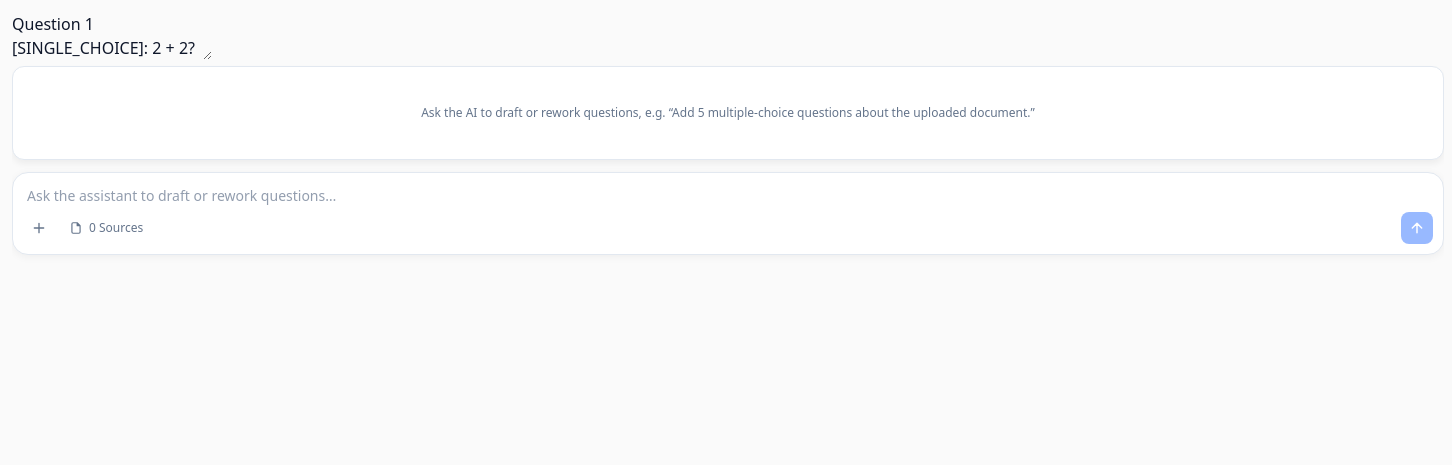
Gate review round 3 — P1-1 silent acceptance on next send › P1-1: after explicit Keep all, sending unblocks and uses the kept editor as baseline
Later steps or results of the test are not shown.
Type "add a question" into the text box named "Message the AI assistant" at (728, 190), box [13, 172, 1443, 208]
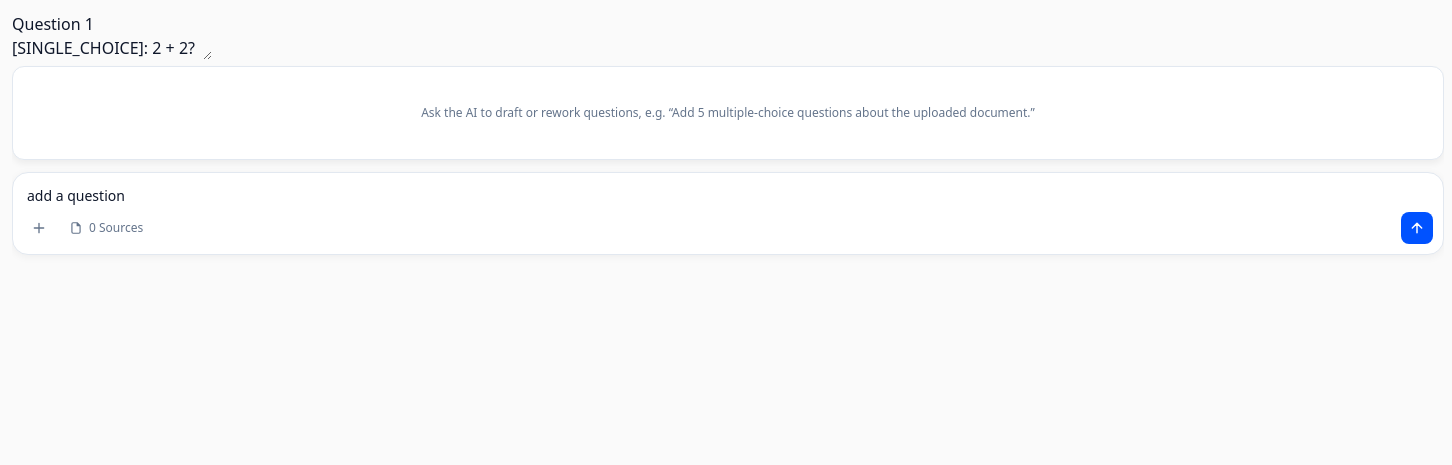
Click the button named "Send message" at (1417, 228), box [1401, 212, 1433, 244]
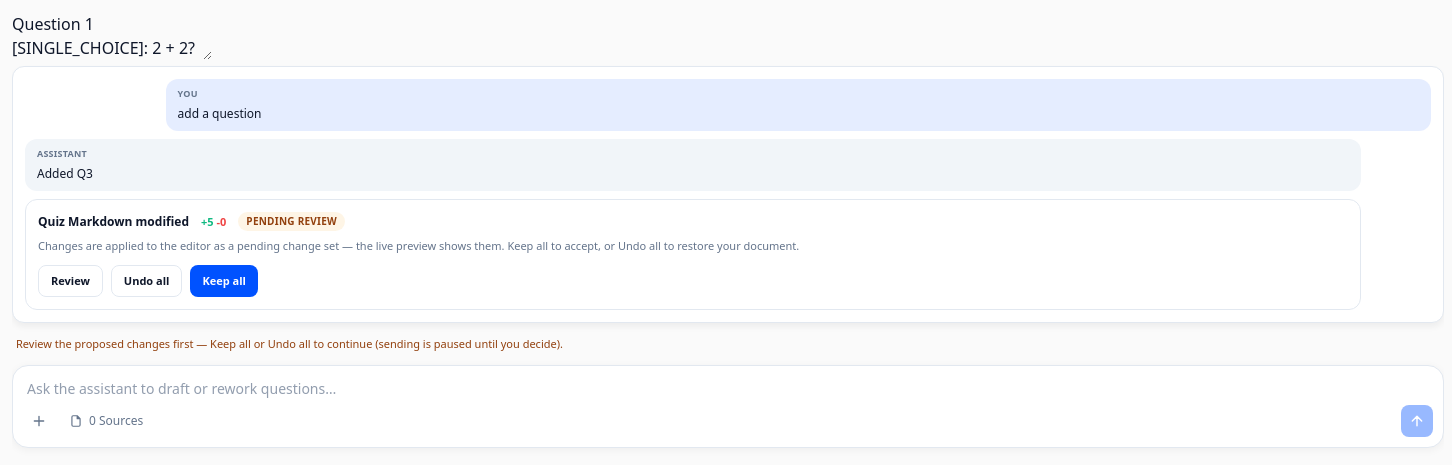
Expected: the button "Keep all" is shown
Click the button "Keep all" at (224, 281), box [190, 265, 258, 297]
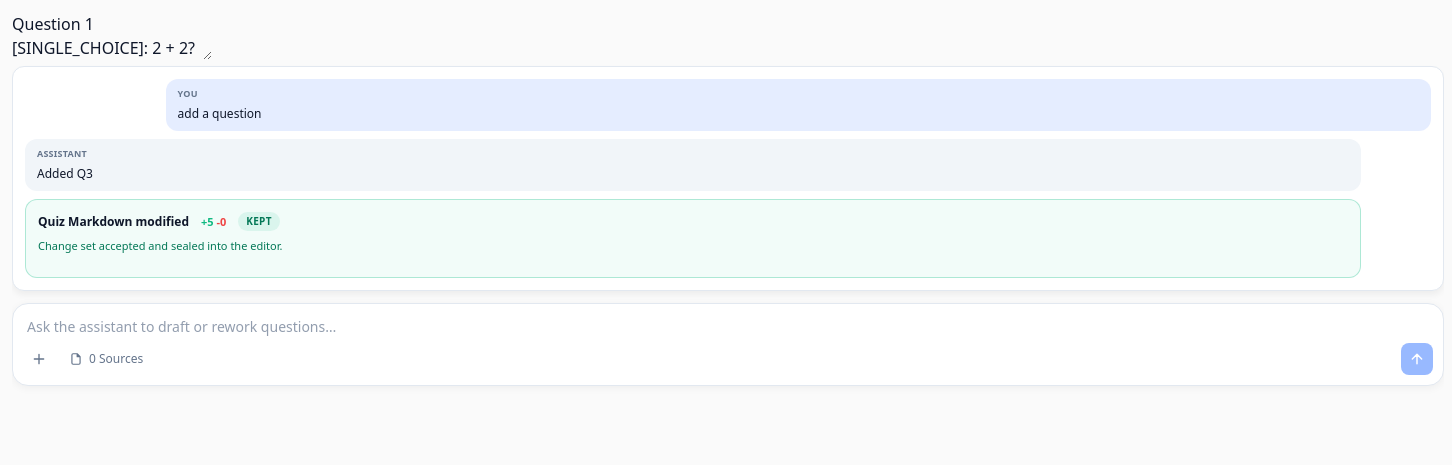
Type "another" into the text box named "Message the AI assistant" at (728, 322), box [13, 304, 1443, 339]
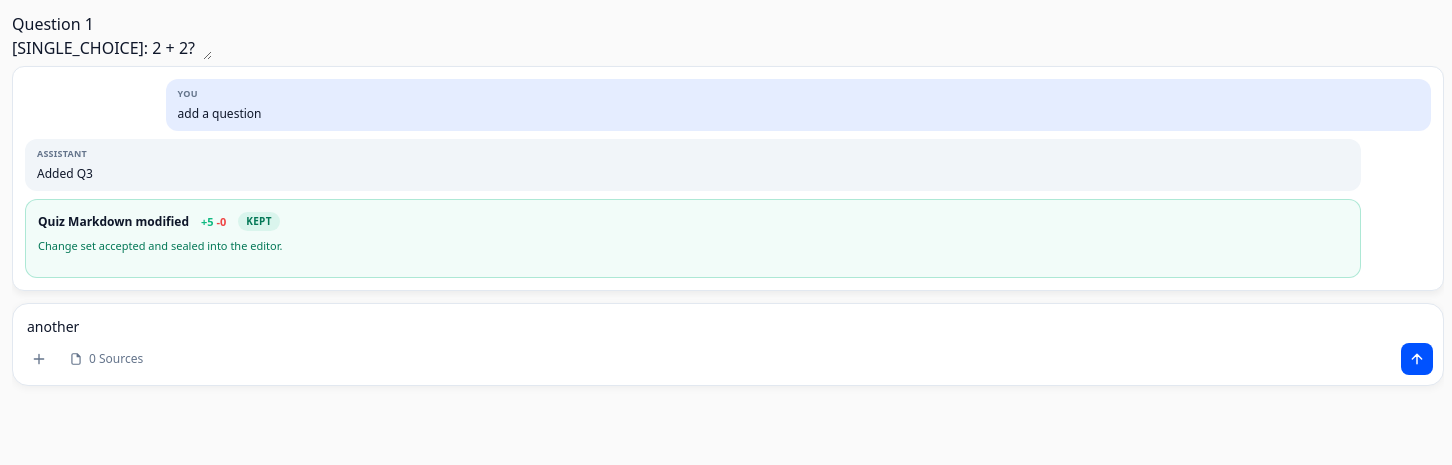
Expected: the button named "Send message" is enabled, [1401, 343, 1433, 375]
